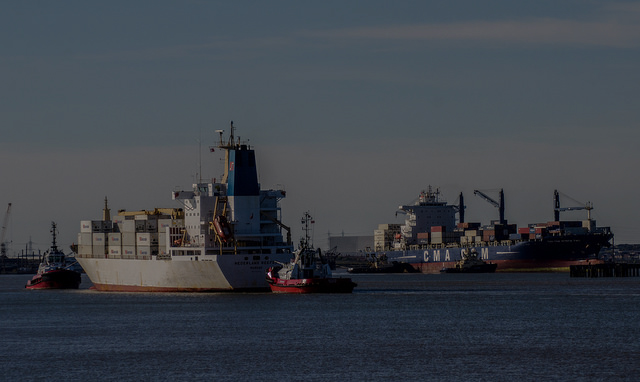container_ship: (73, 131, 289, 292), (365, 185, 616, 273)
tug_boat: (266, 217, 358, 294), (22, 221, 80, 288), (353, 246, 408, 277), (443, 249, 505, 273)
